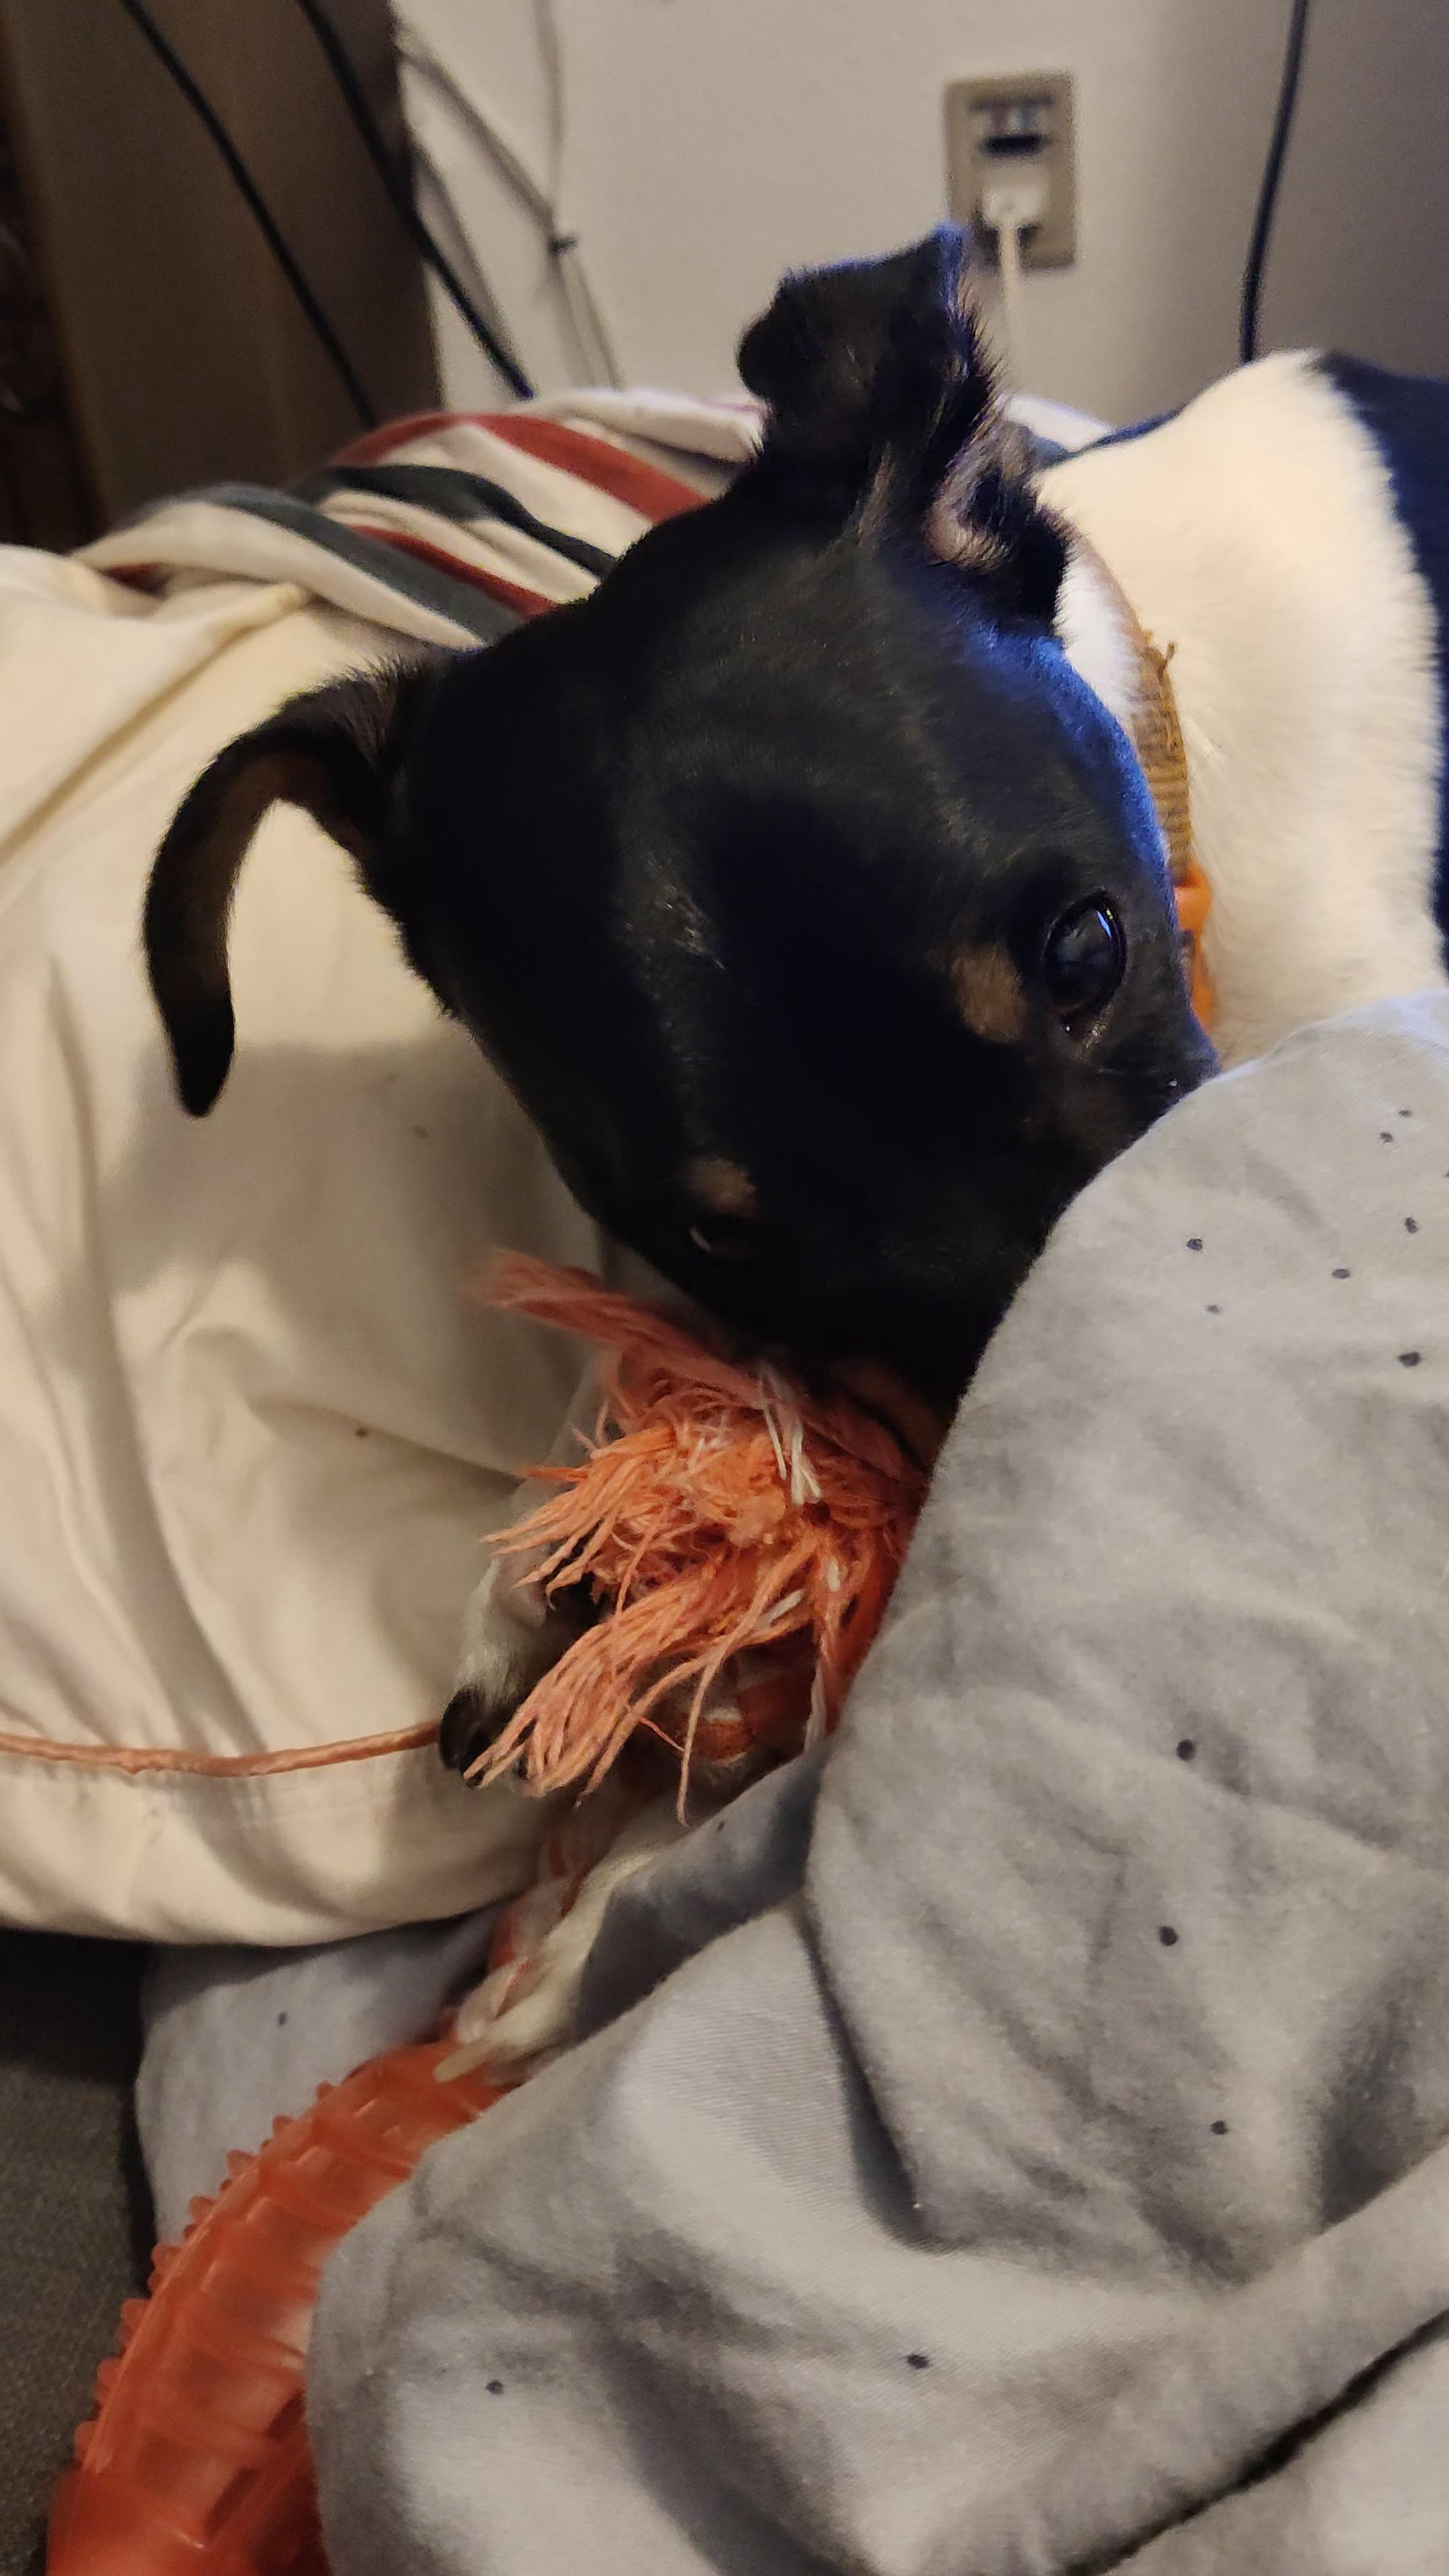Dog: (129, 165, 1449, 2116)
